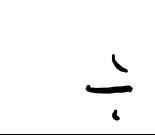div: (86, 54, 133, 121)
